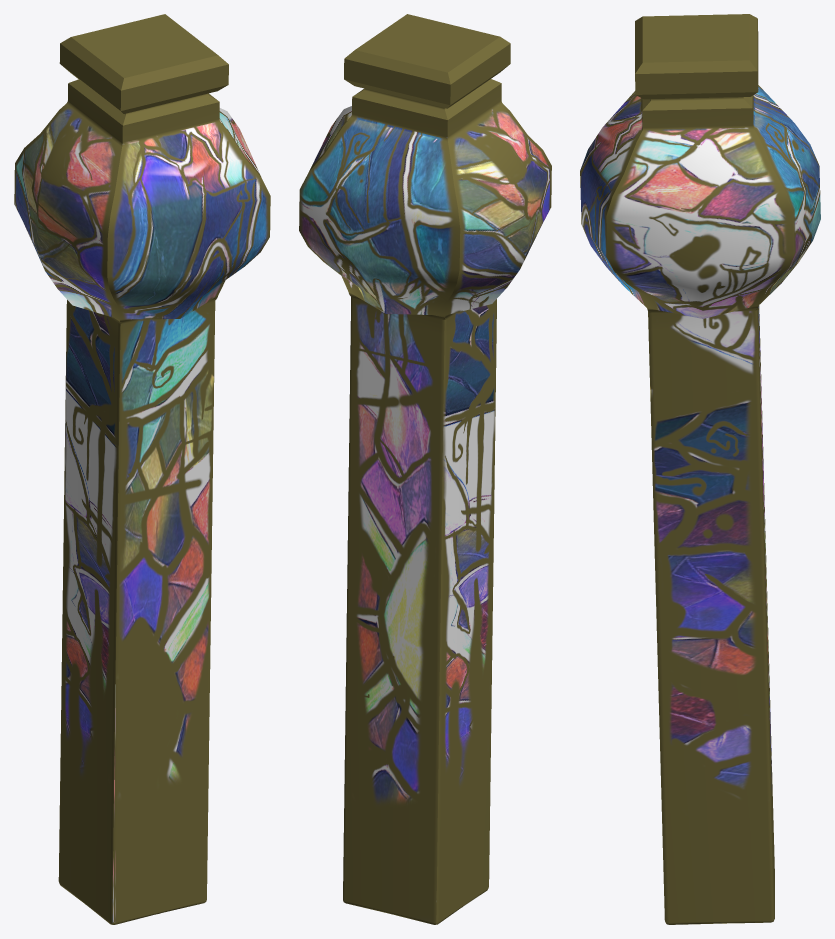
File: leverHandlePre.glb
The picture shows the model from 3 angles, left to right: view 1: azimuth 30°, elevation 25°; view 2: azimuth 150°, elevation 25°; view 3: azimuth 270°, elevation 25°; orthographic projection. The views are drawn at different scales.
Parts seen in each view (by area): view 1: Mesh_1.001; view 2: Mesh_1.001; view 3: Mesh_1.001.
Boxes of the visible parts, bbox=[...] form: Mesh_1.001: bbox=[14, 14, 270, 924]; Mesh_1.001: bbox=[299, 14, 551, 924]; Mesh_1.001: bbox=[580, 14, 820, 924].
Size of the model in its own units: 0.206 by 0.8127 by 0.205.
1 material, 1 textured.
